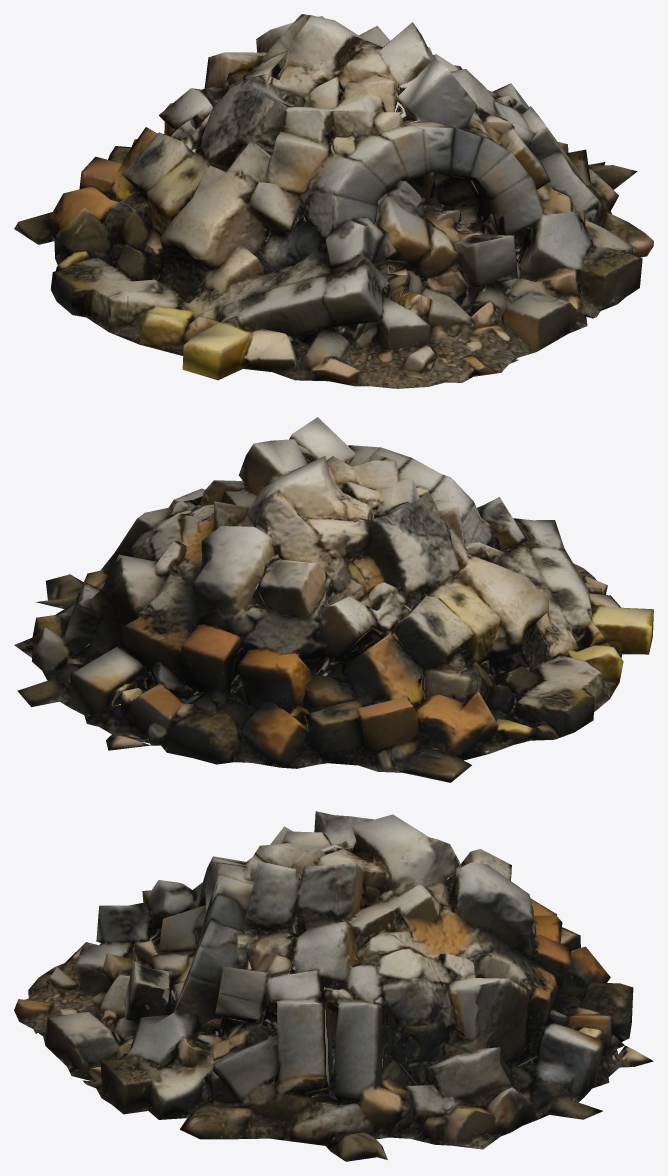
File: rubble.glb
3 renders of one model, top to bottom at view 1: azimuth 30°, elevation 25°; view 2: azimuth 150°, elevation 25°; view 3: azimuth 270°, elevation 25°, orthographic. The views are drawn at different scales.
Parts seen in each view (by area): view 1: Mesh1.0; view 2: Mesh1.0; view 3: Mesh1.0.
Boxes of the visible parts, left/top/right/bottom form: Mesh1.0: left=14, top=14, right=653, bottom=388; Mesh1.0: left=14, top=417, right=653, bottom=782; Mesh1.0: left=14, top=811, right=653, bottom=1161.
Bounding box in the file's own units: 1.89 × 0.6773 × 1.89.
1 material, 1 textured.
